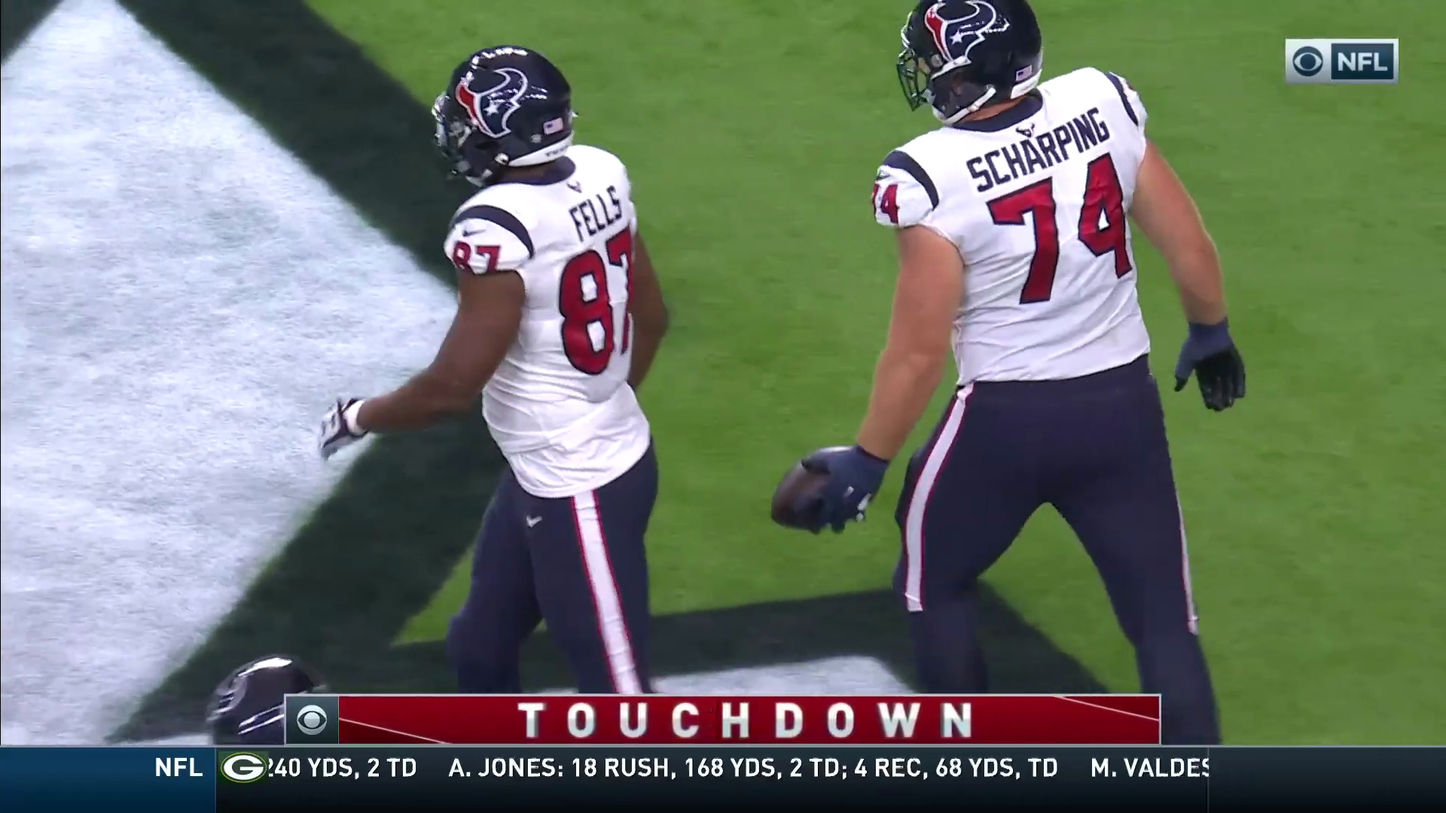Player: (871, 10, 1207, 523), (448, 113, 680, 629)
